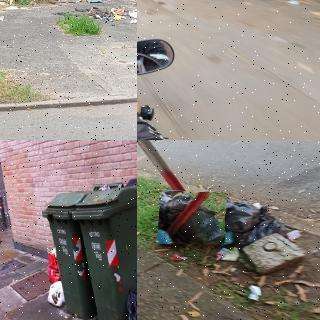Garbage: (158, 191, 226, 245), (221, 202, 267, 233), (208, 230, 235, 248), (45, 281, 66, 304)
